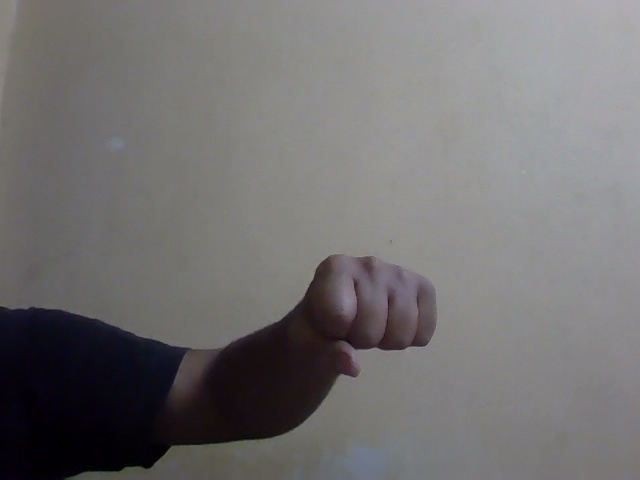Yes: (293, 238, 465, 418)
